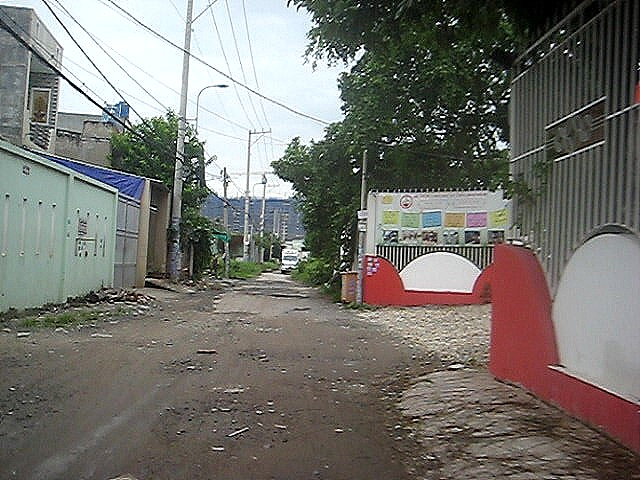hole: (152, 393, 290, 448), (300, 372, 366, 399), (176, 310, 255, 328), (157, 355, 214, 375), (235, 348, 284, 366), (238, 279, 296, 286), (268, 292, 315, 300), (256, 326, 284, 334), (237, 290, 263, 294)
